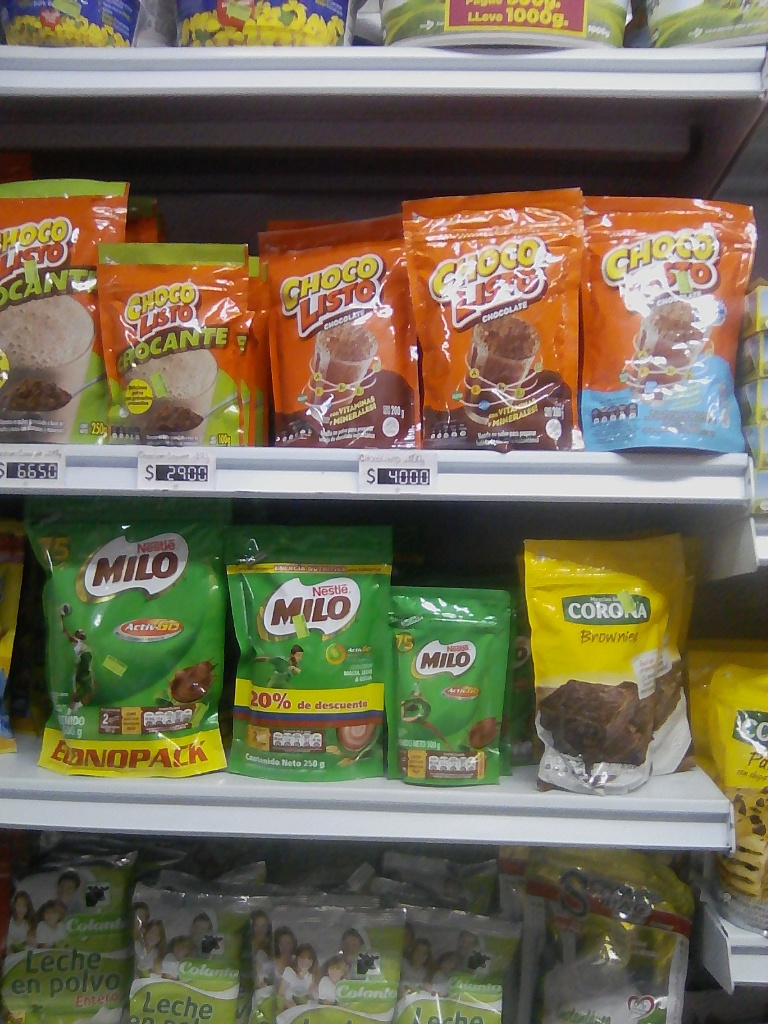COL0170102DYP10000: (93, 225, 270, 452)
COL0170102DYP25000: (0, 172, 133, 450)
COL0170103DYP20000: (265, 213, 419, 452)
COL0170104DYP20000: (580, 185, 756, 461)
COL0170203DYP10000: (383, 580, 521, 794)
COL0170203DYP25000: (219, 510, 395, 787)
COL0170203DYP50000: (23, 490, 243, 796)
